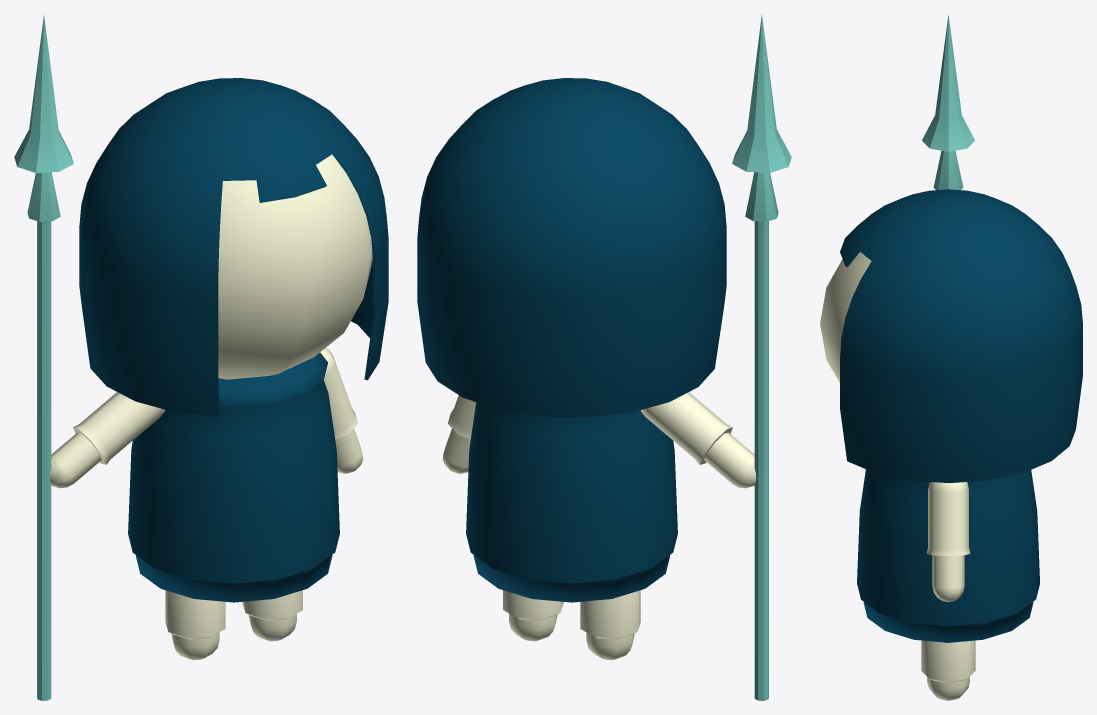
Rendered from NormalSoldier.fbx.
The picture shows the model from 3 angles, left to right: view 1: azimuth 30°, elevation 25°; view 2: azimuth 150°, elevation 25°; view 3: azimuth 270°, elevation 25°; orthographic projection. The views are drawn at different scales.
Parts seen in each view (by area): view 1: Soldier; view 2: Soldier; view 3: Soldier.
Part boxes in pixels (x1,y1,x2,y2): Soldier: [14, 15, 388, 700]; Soldier: [417, 15, 791, 700]; Soldier: [820, 14, 1082, 700].
Bounding box in the file's own units: 54.61 × 102 × 40.92.
